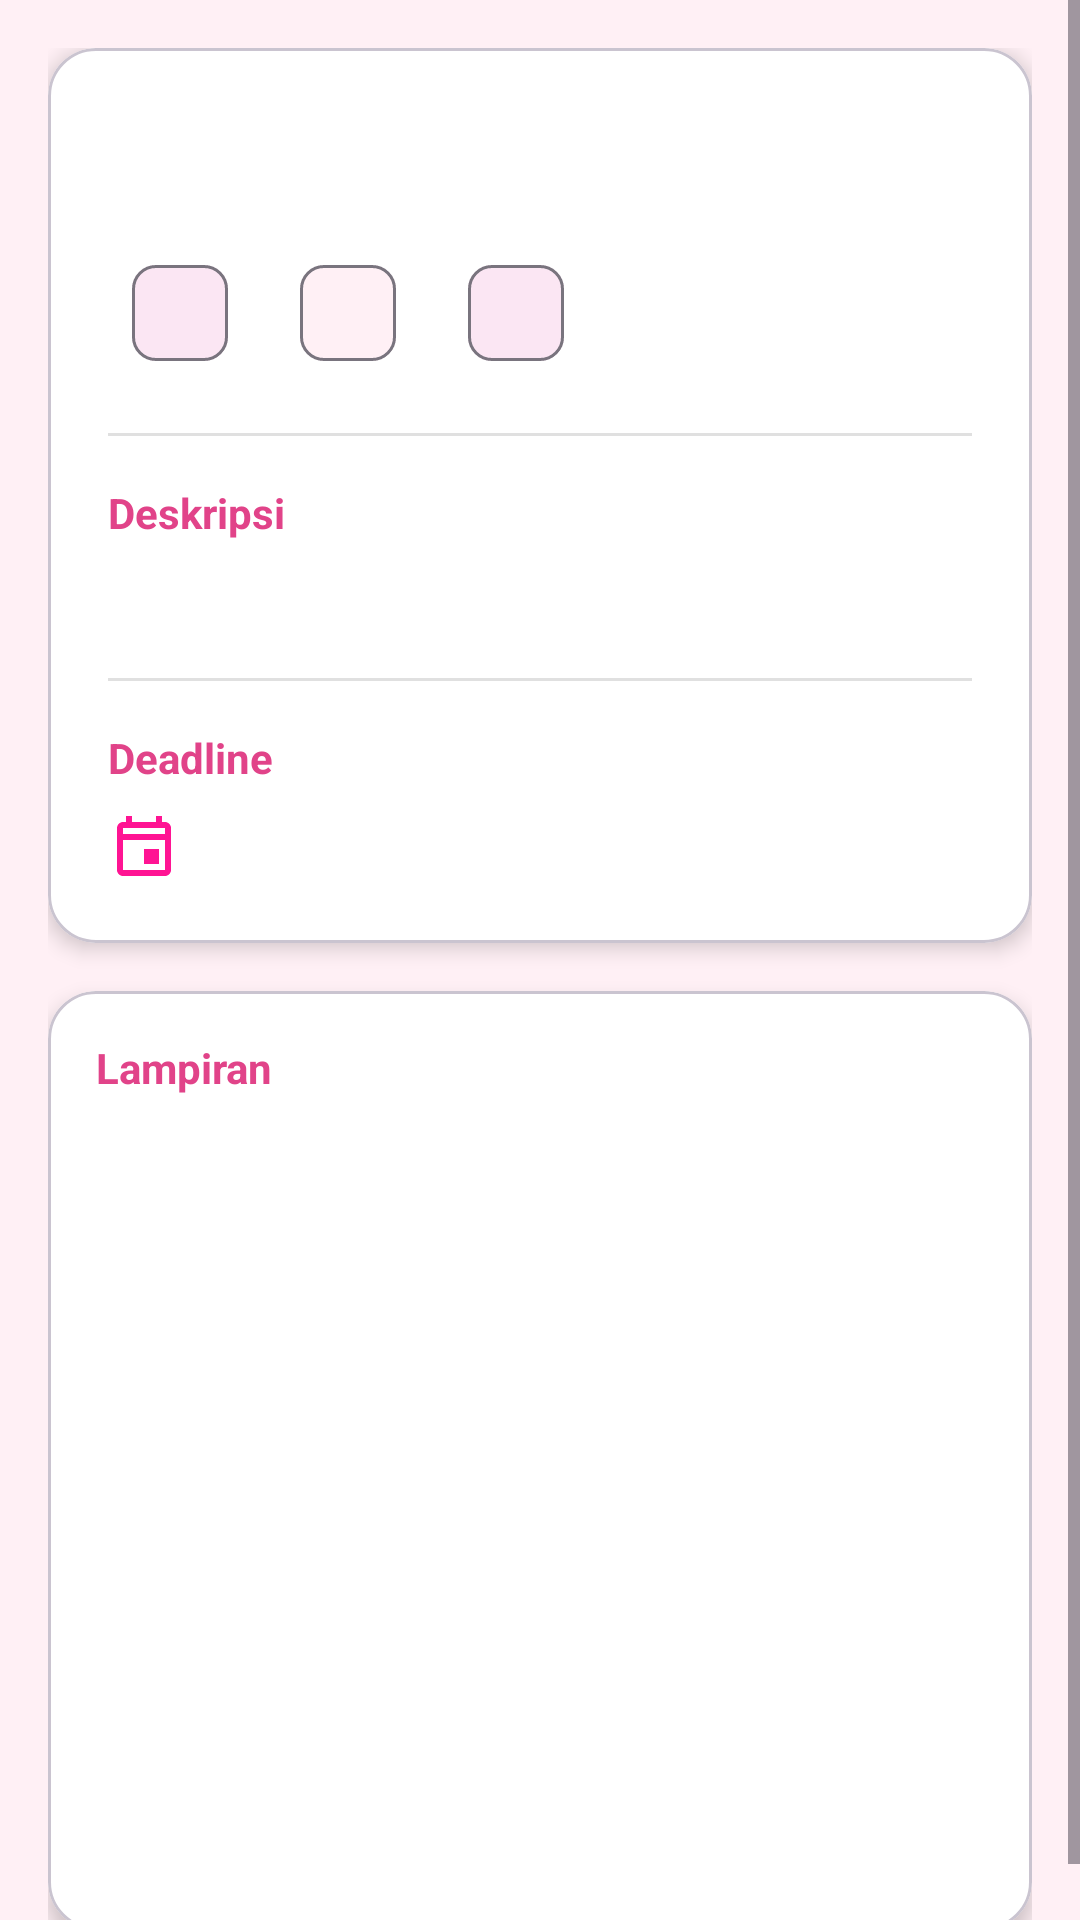

Point at icon controls on the screen. Image size 1080px×1920px, points as [x,y].
Calendar: [144,846]
